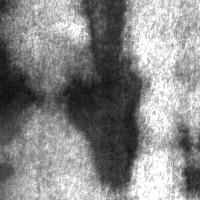patches: (0, 53, 141, 200), (62, 1, 144, 189), (0, 112, 98, 200), (7, 122, 89, 200), (1, 42, 41, 146)
